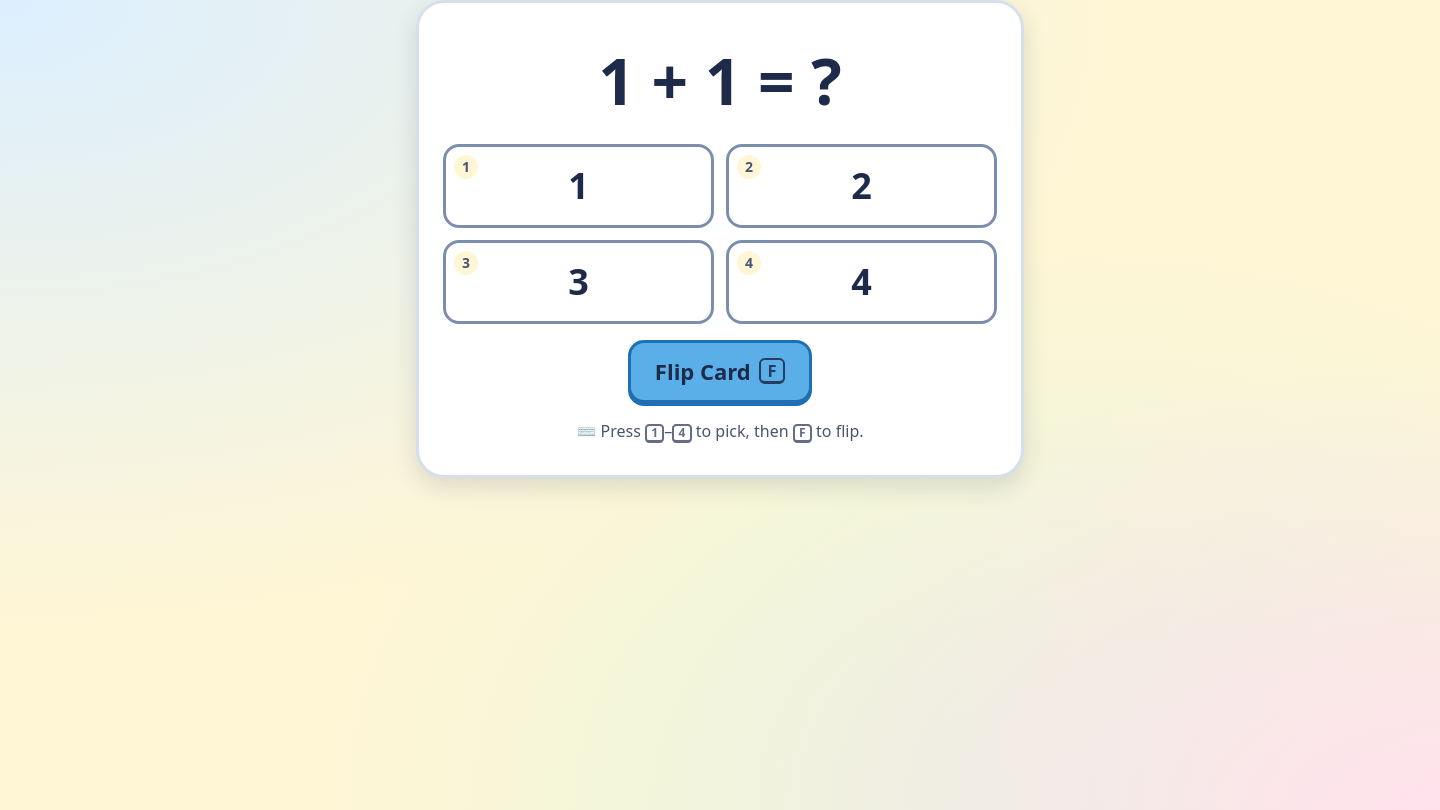
How to solve it › shows a rule for an "obvious" problem like 1 + 1
Step 1. Type keys "1f"
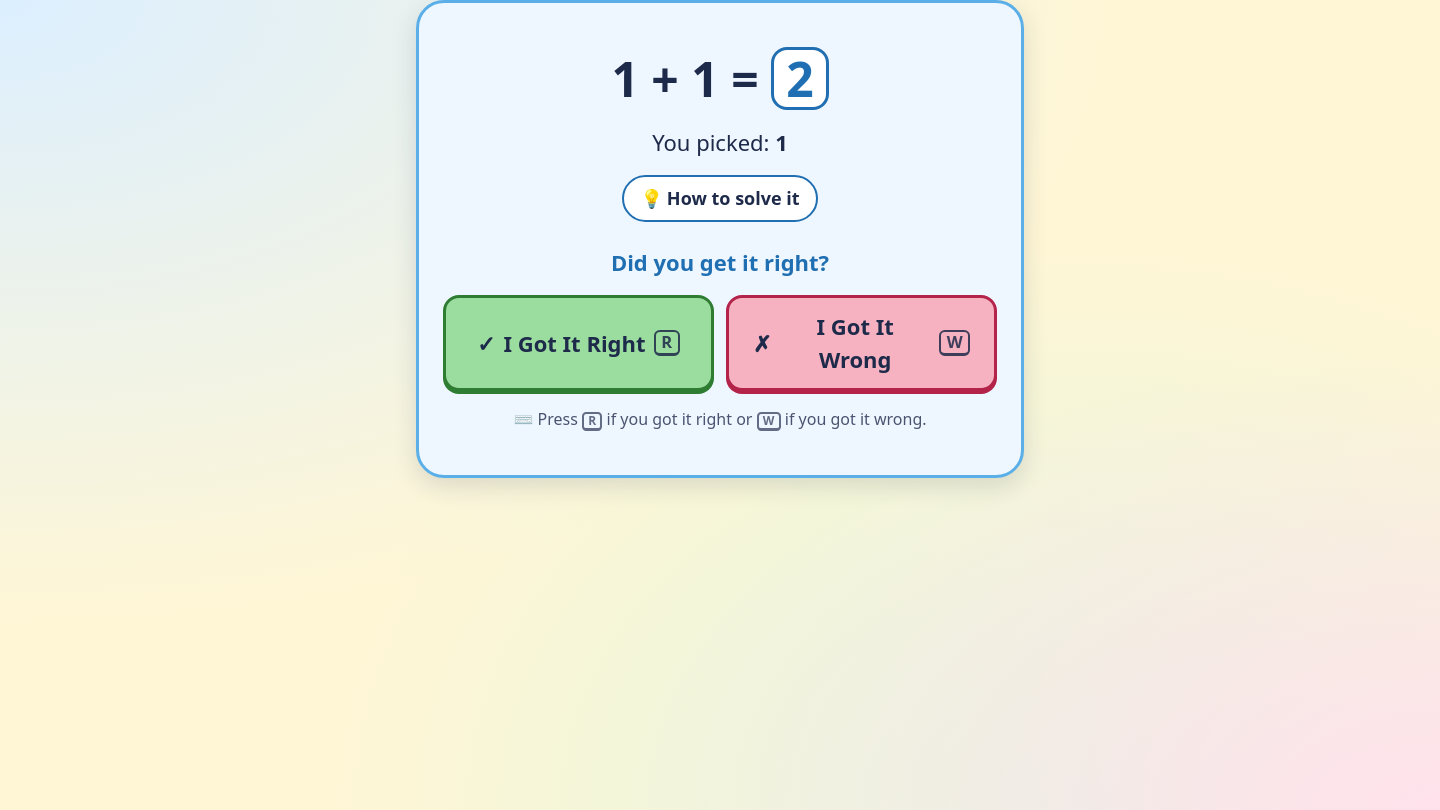
Step 2. Click the button "💡 How to solve it" → click(720, 199), box [622,175,818,222]
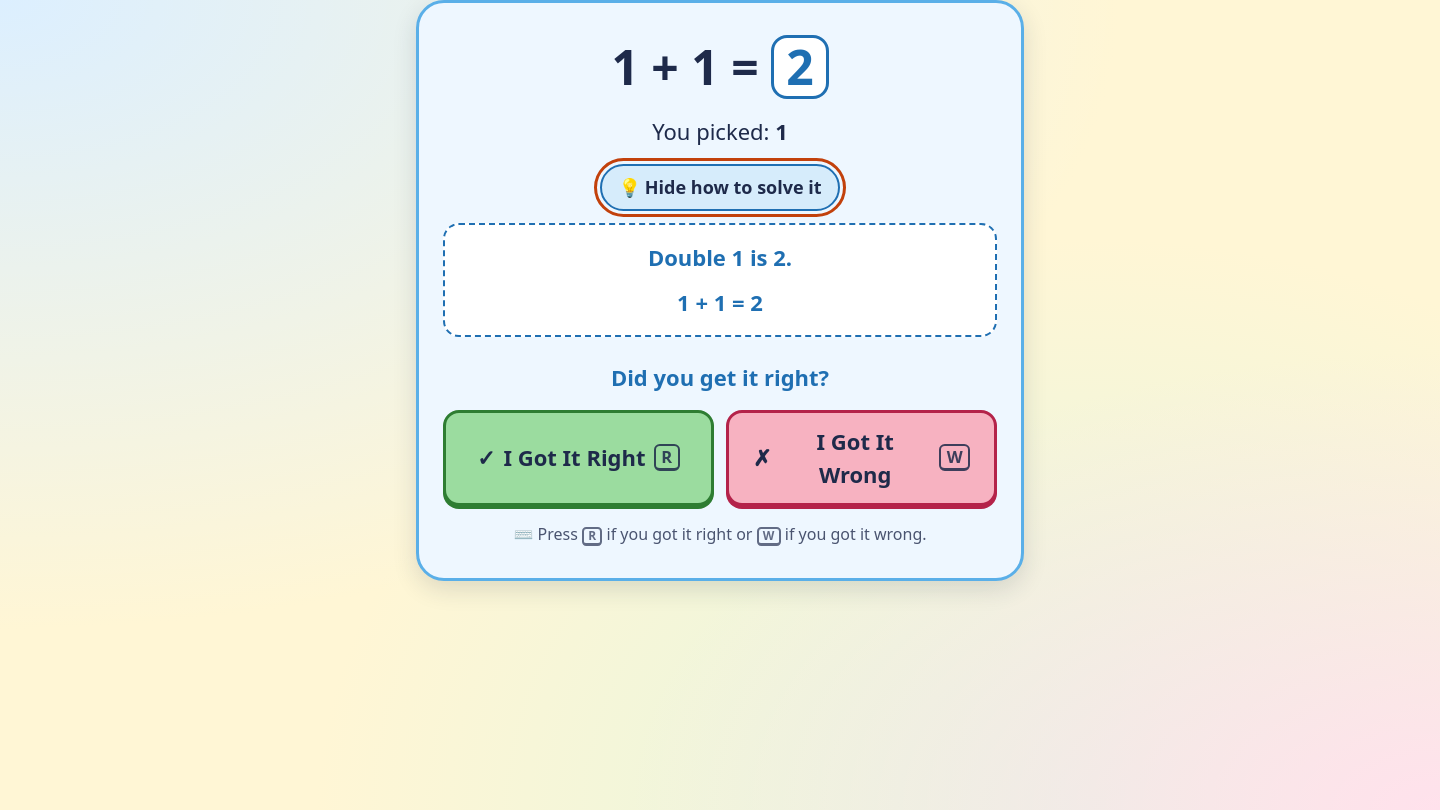
Now the text "Double 1 is 2." is shown, box [648,242,792,272]
